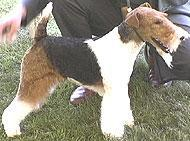wire-haired_fox_terrier: (0, 1, 188, 140)
